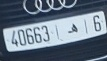0: (18, 28, 27, 47)
3: (42, 24, 50, 43)
4: (10, 29, 18, 47)
6: (92, 15, 103, 32), (33, 25, 42, 44), (26, 27, 35, 45)
h: (66, 22, 79, 35)
